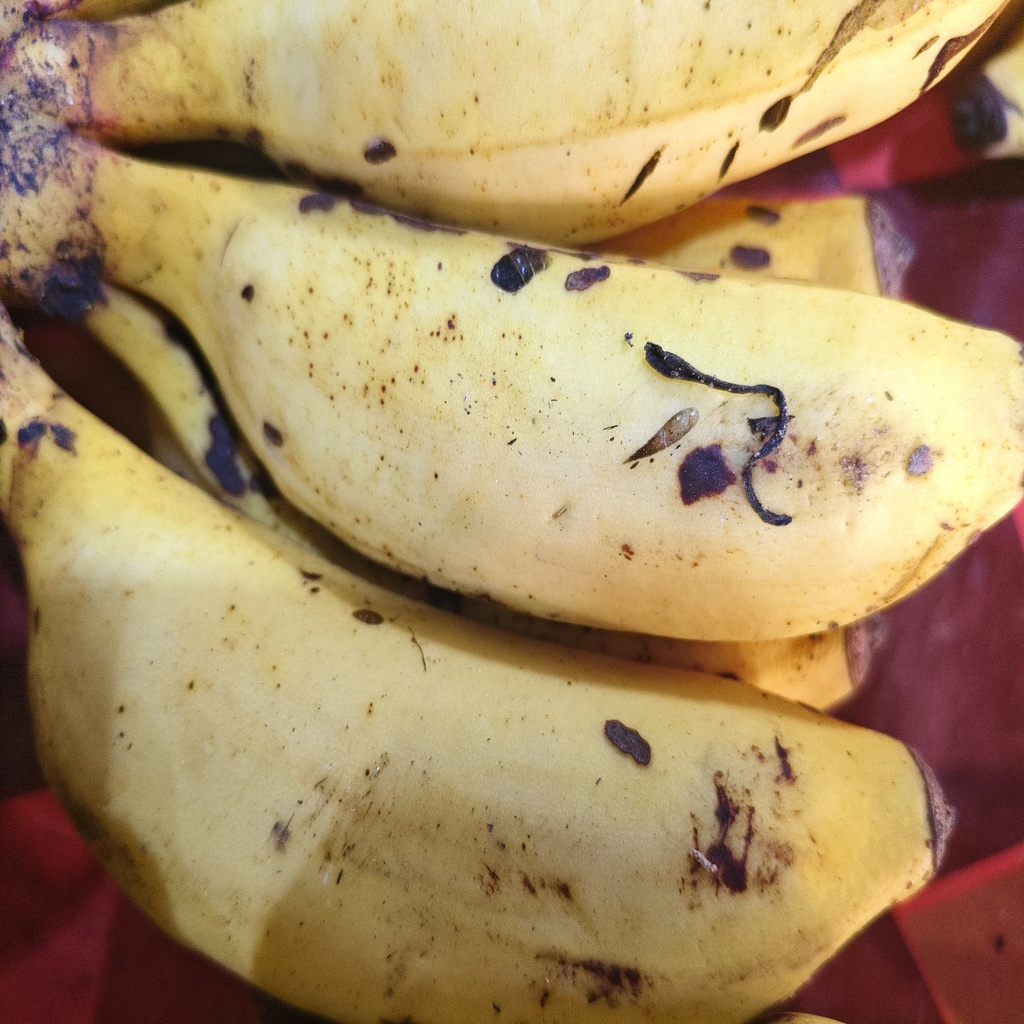unhealthy: (27, 381, 955, 1023), (187, 186, 1024, 645)
